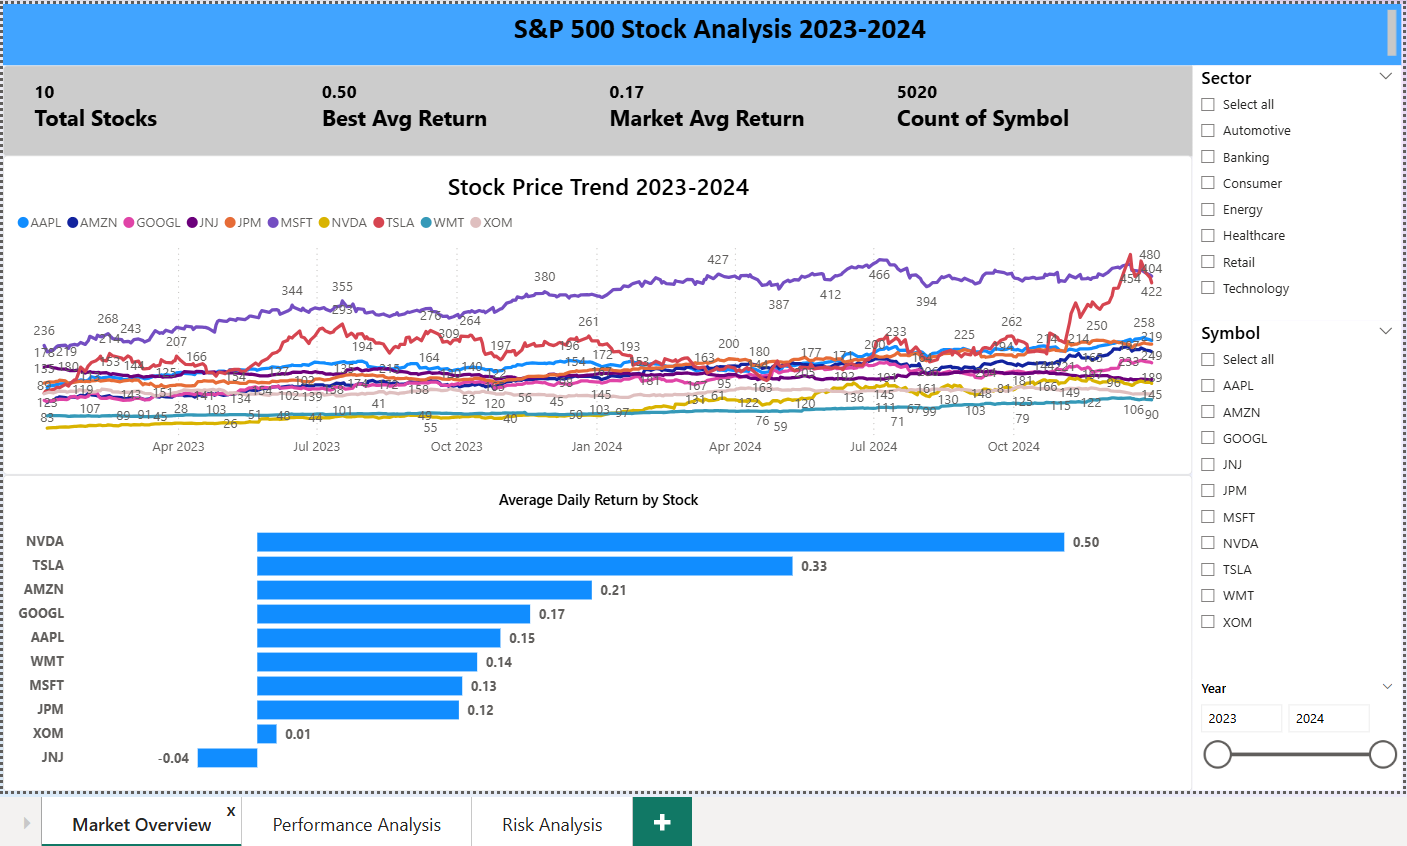

Layout of this report page (visuals, bound fields, positions):
{"tool":"powerbi","page":{"name":"Market Overview","canvas":[1280,720],"ordinal":0},"visuals":[{"type":"multiRowCard","fields":{"Values":["Stock_Data.Symbol","Max(Summary_Stats.Avg_Daily_Return)","Avg(Stock_Data.Daily_Return_%)","CountNonNull(Stock_Data.Symbol)"]},"box":[0,56.3,1093.7,83],"z":0},{"type":"textbox","box":[0,0,1279.5,56],"z":1000},{"type":"lineChart","title":"Stock Price Trend 2023-2024","fields":{"Y":["Avg(Stock_Data.Close)"],"Series":["Stock_Data.Symbol"],"Category":["Stock_Data.Date"]},"box":[0,138.6,1088.3,292.3],"z":2000},{"type":"barChart","title":"Average Daily Return by Stock","fields":{"Category":["Stock_Data.Symbol"],"Y":["Avg(Stock_Data.Daily_Return_%)"]},"box":[0,430.9,1088.3,289.6],"z":3000},{"type":"slicer","fields":{"Values":["Summary_Stats.Sector"]},"box":[1088.7,56,190.8,233.2],"z":3001},{"type":"slicer","fields":{"Values":["Summary_Stats.Symbol"]},"box":[1088.7,289.2,190.8,328.6],"z":3002},{"type":"slicer","fields":{"Values":["Stock_Data.Year"]},"box":[1088.7,617.8,190.8,101.5],"z":3003}]}

Visuals, with their boxes on the page's 1280x720 design canvas (x1, y1, x2, y2). These are canvas units, not pixel positions in the 1407x846 screenshot, which may show the page scaled, cropped or inside an application window:
multiRowCard - Stock_Data.Symbol x Max(Summary_Stats.Avg_Daily_Return): locate(0, 56, 1094, 139)
textbox: locate(0, 0, 1280, 56)
"Stock Price Trend 2023-2024" lineChart: locate(0, 139, 1088, 431)
"Average Daily Return by Stock" barChart: locate(0, 431, 1088, 720)
slicer - Summary_Stats.Sector: locate(1089, 56, 1280, 289)
slicer - Summary_Stats.Symbol: locate(1089, 289, 1280, 618)
slicer - Stock_Data.Year: locate(1089, 618, 1280, 719)
